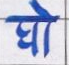i_matra: (38, 5, 54, 56)
